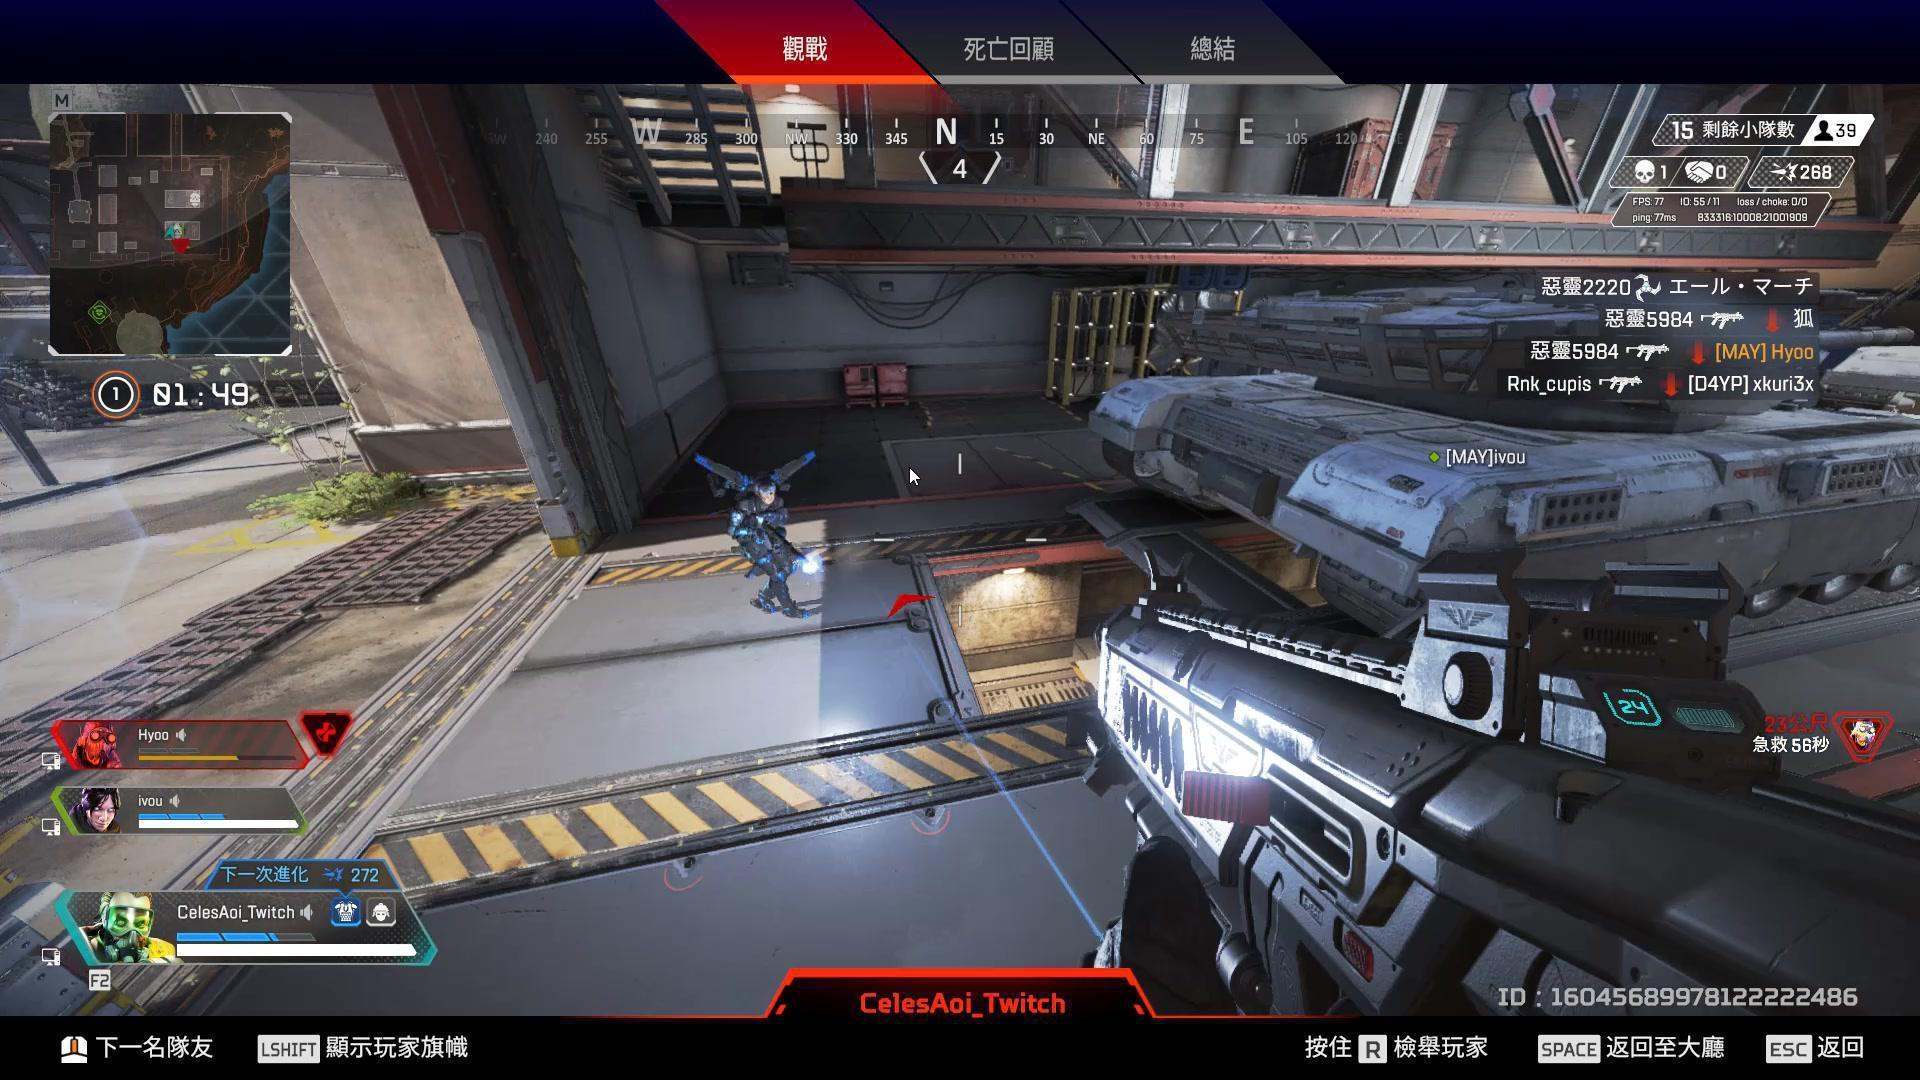avatar: (727, 476, 807, 622)
